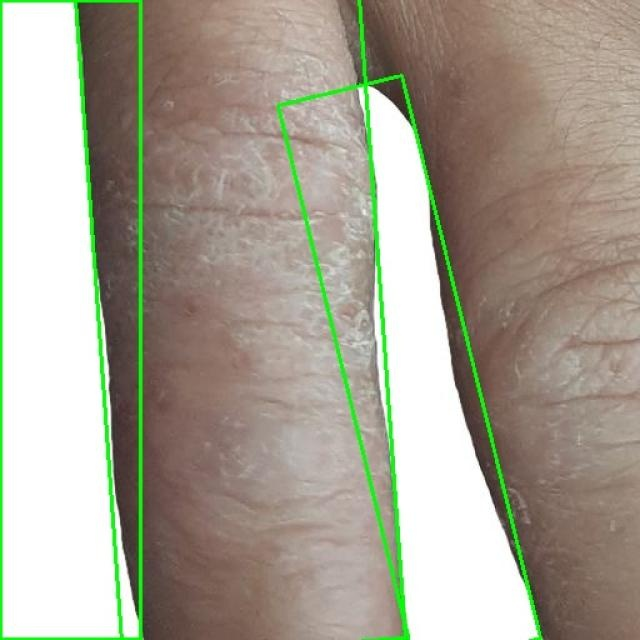Contact Dermatitis: (76, 0, 405, 640), (278, 76, 541, 640), (0, 0, 140, 639)
